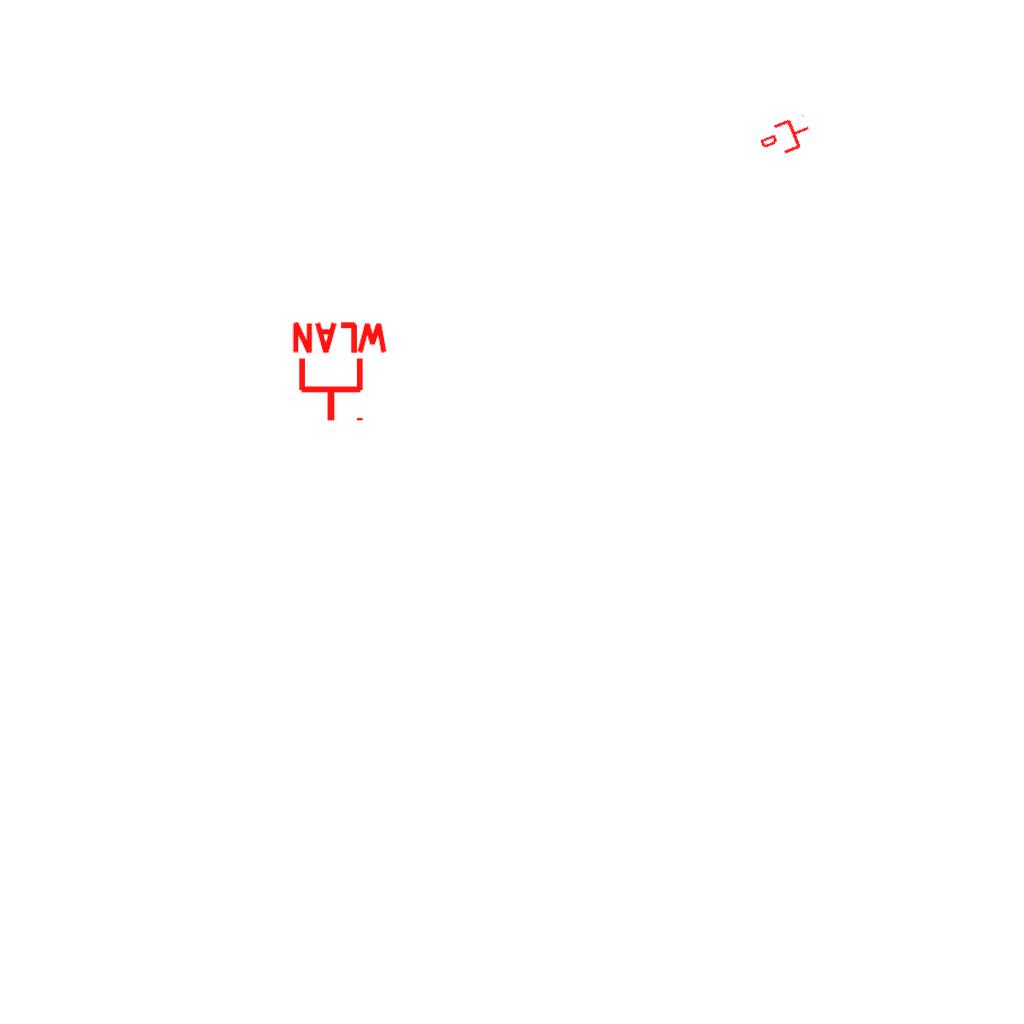Datenanschluss_einfach: (756, 111, 816, 163)
WLAN: (288, 320, 392, 425)
